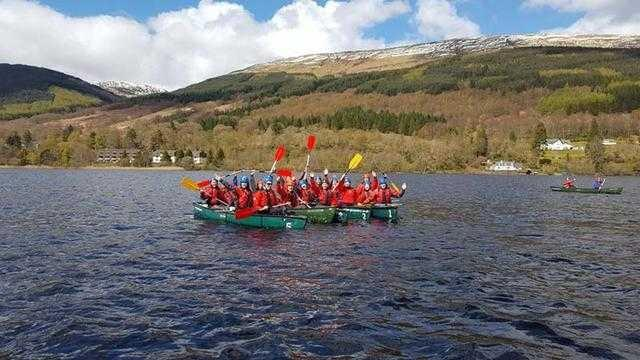kayak: (191, 194, 403, 230), (192, 203, 306, 230), (554, 174, 615, 193), (556, 174, 577, 191), (591, 174, 607, 192), (493, 161, 519, 171), (601, 138, 617, 145)
